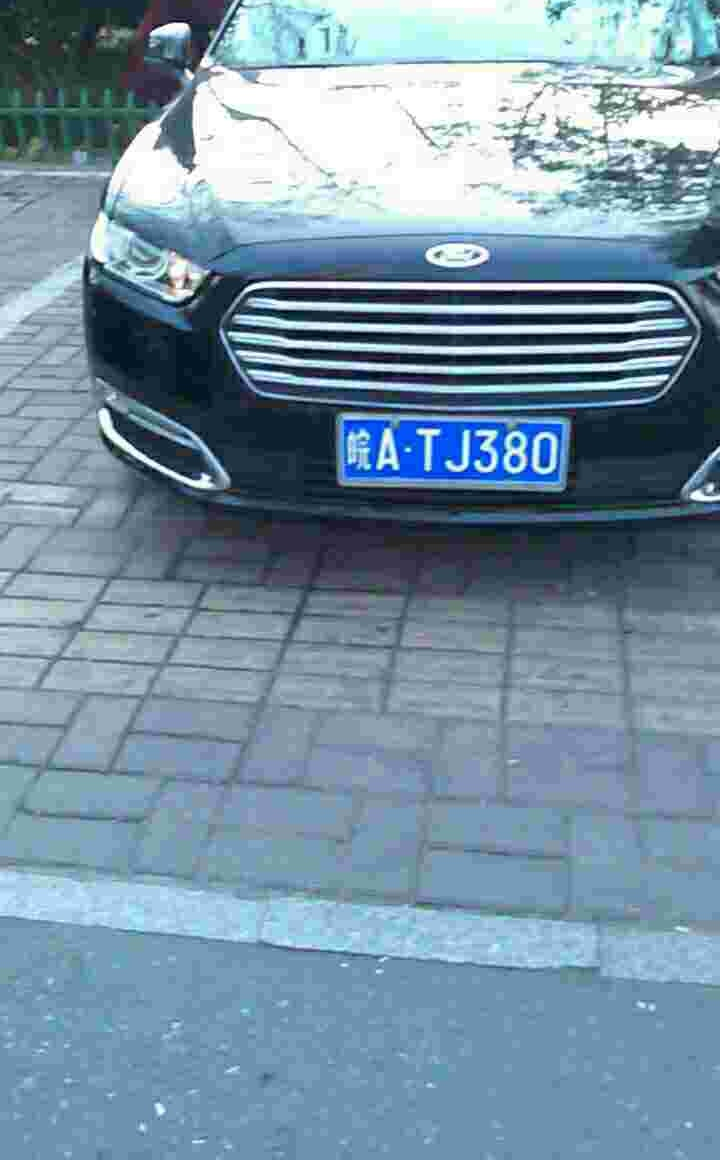license_plate: (347, 420, 575, 484)
